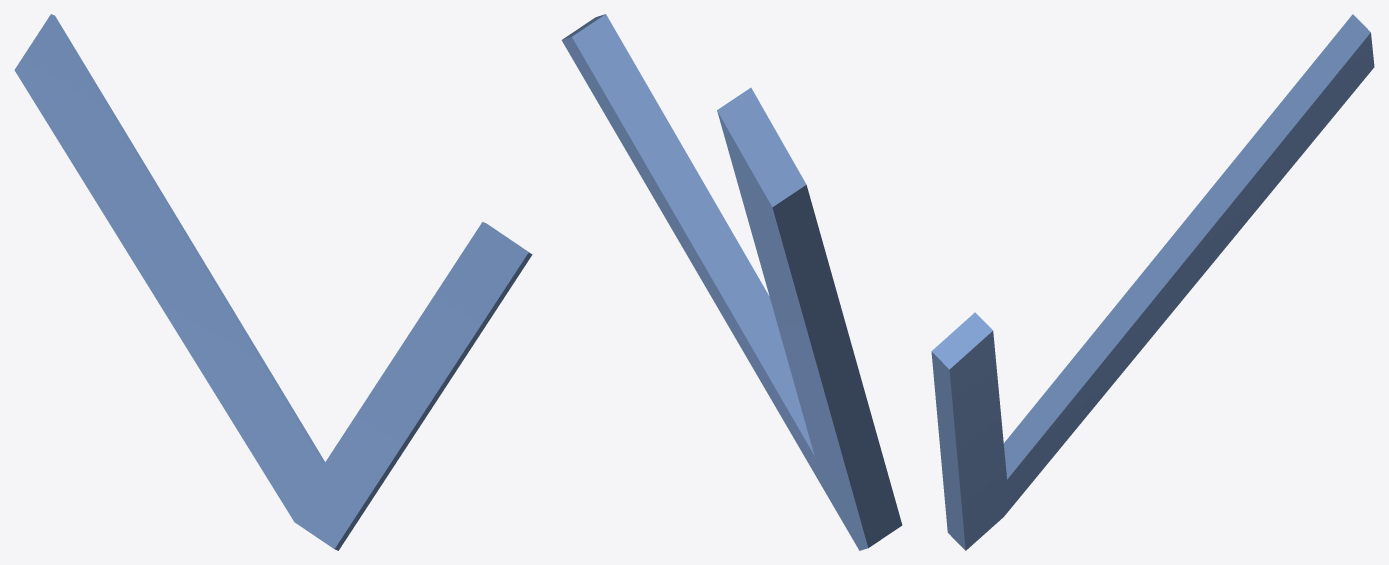
Rendered from New_Number_7.gltf.
3 renders of one model, left to right at view 1: azimuth 30°, elevation 25°; view 2: azimuth 150°, elevation 25°; view 3: azimuth 270°, elevation 25°, orthographic. The views are drawn at different scales.
Parts seen in each view (by area): view 1: Part 196; view 2: Part 196; view 3: Part 196.
Part boxes in pixels (x1,y1,x2,y2): Part 196: (14, 14, 532, 550); Part 196: (561, 14, 902, 550); Part 196: (931, 14, 1374, 550).
Bounding box in the file's own units: 0.00396 × 0.00495 × 0.00416.
